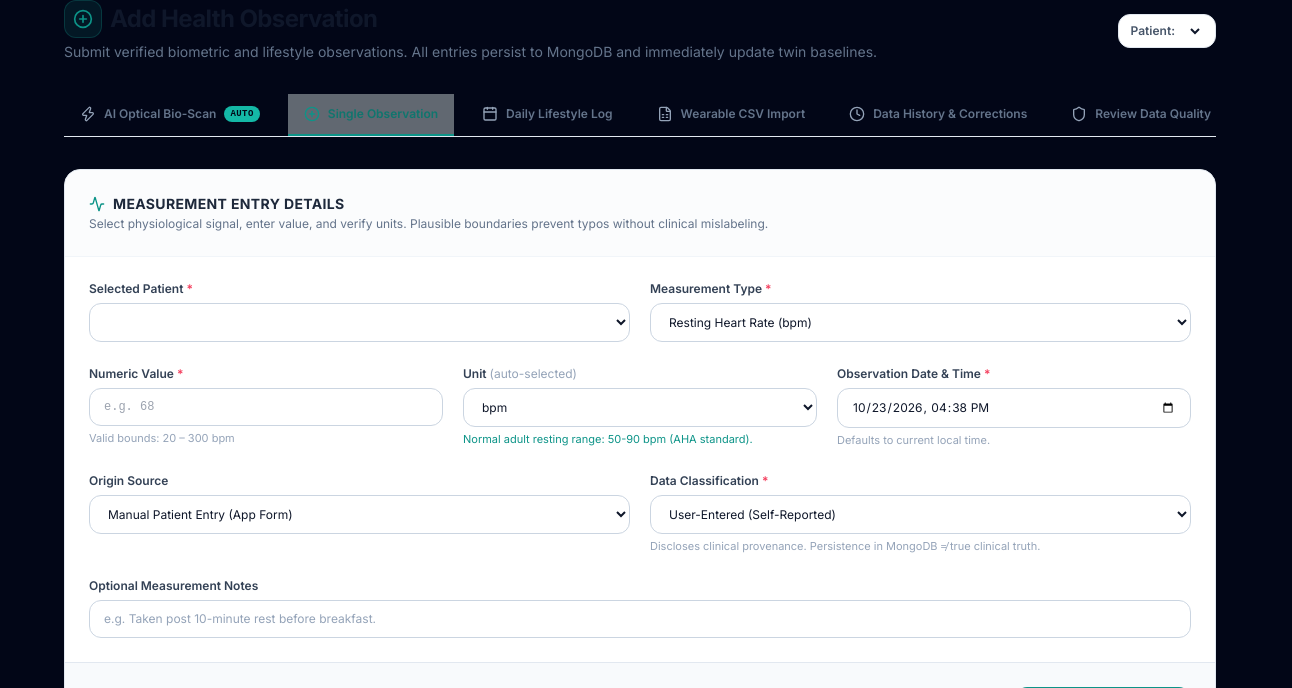
Test: AddObservationPage Component › renders Wearable CSV Import tab with sample template download button
This screenshot has width=1292, height=688.
Step 1. Click the button "Wearable CSV Import" → [731, 115], box [641, 94, 821, 136]
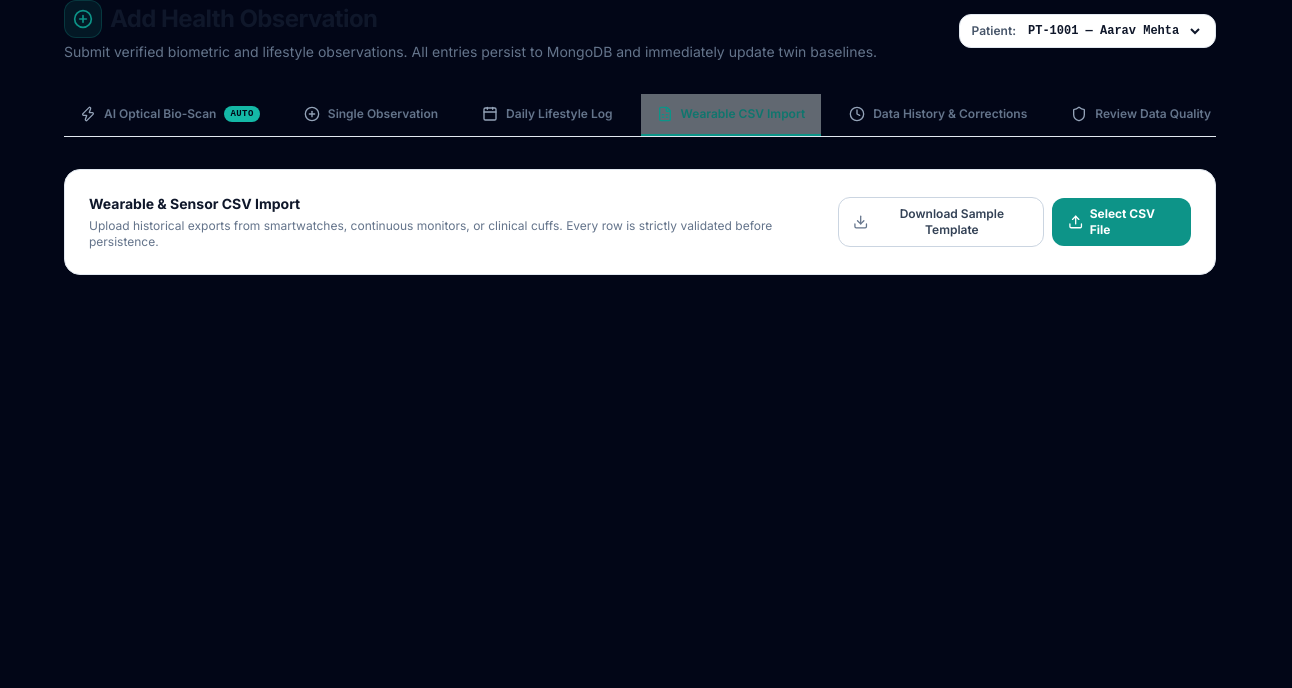
Expected: the heading "Wearable & Sensor CSV Import" is shown, [89, 195, 300, 212]
Expected: the button "Download Sample Template" is shown, [838, 197, 1044, 247]
Expected: the text "Select CSV File" is shown, [1090, 206, 1155, 237]
